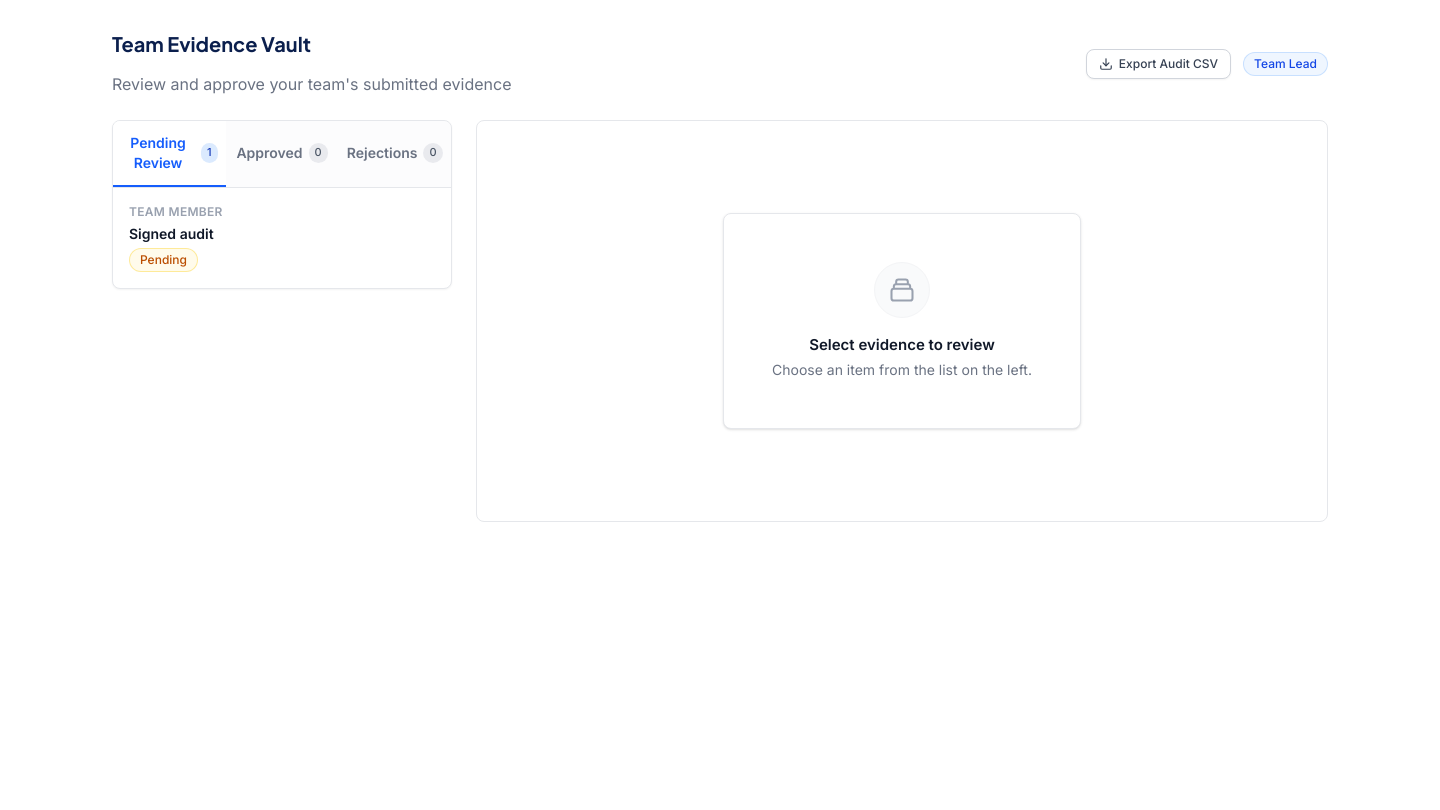
Test case: TL Reviews › approves evidence through the store; list and detail show the same status
Click the text "Signed audit": click(171, 234) [129, 225, 214, 242]
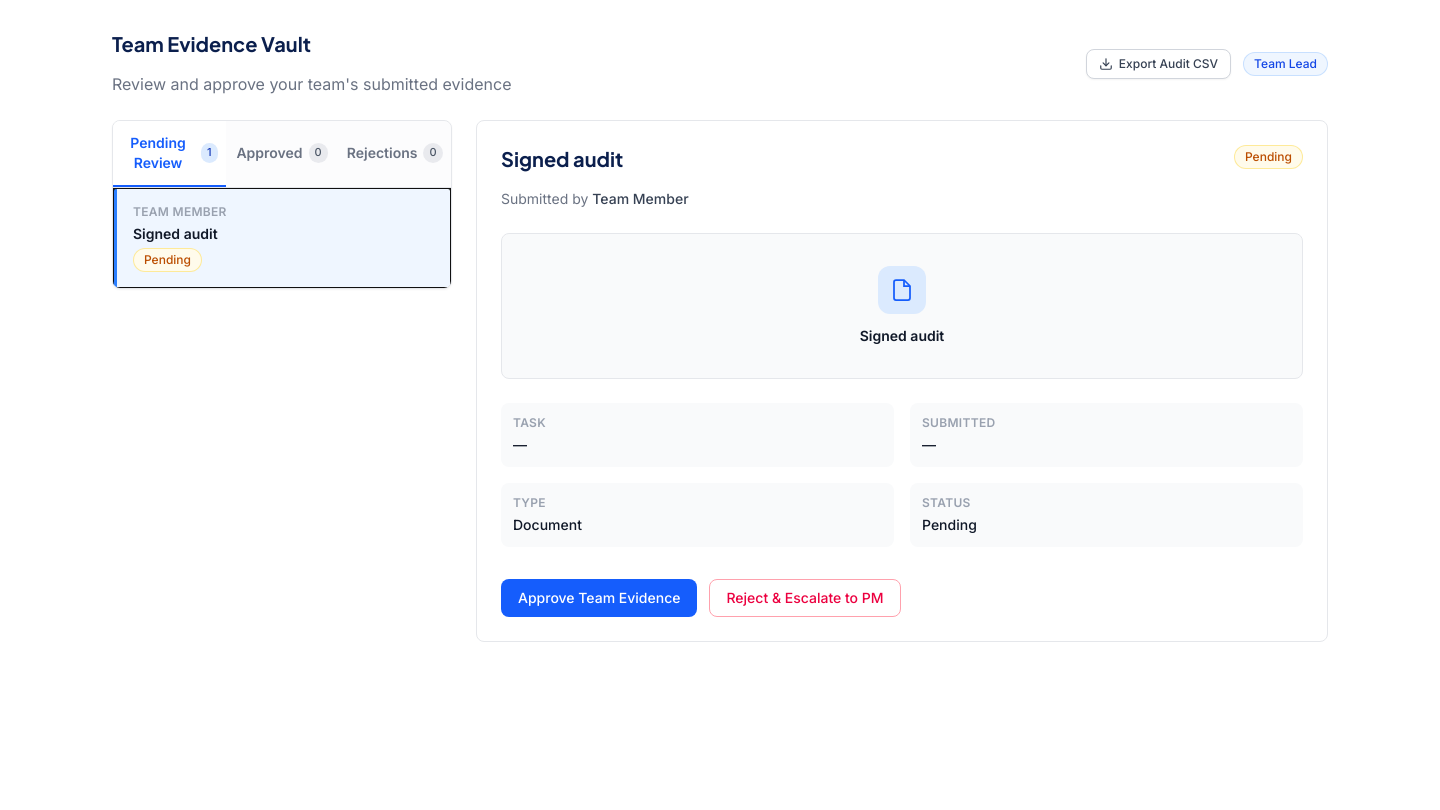
Click the button "Approve Team Evidence": click(599, 598) [501, 579, 698, 617]
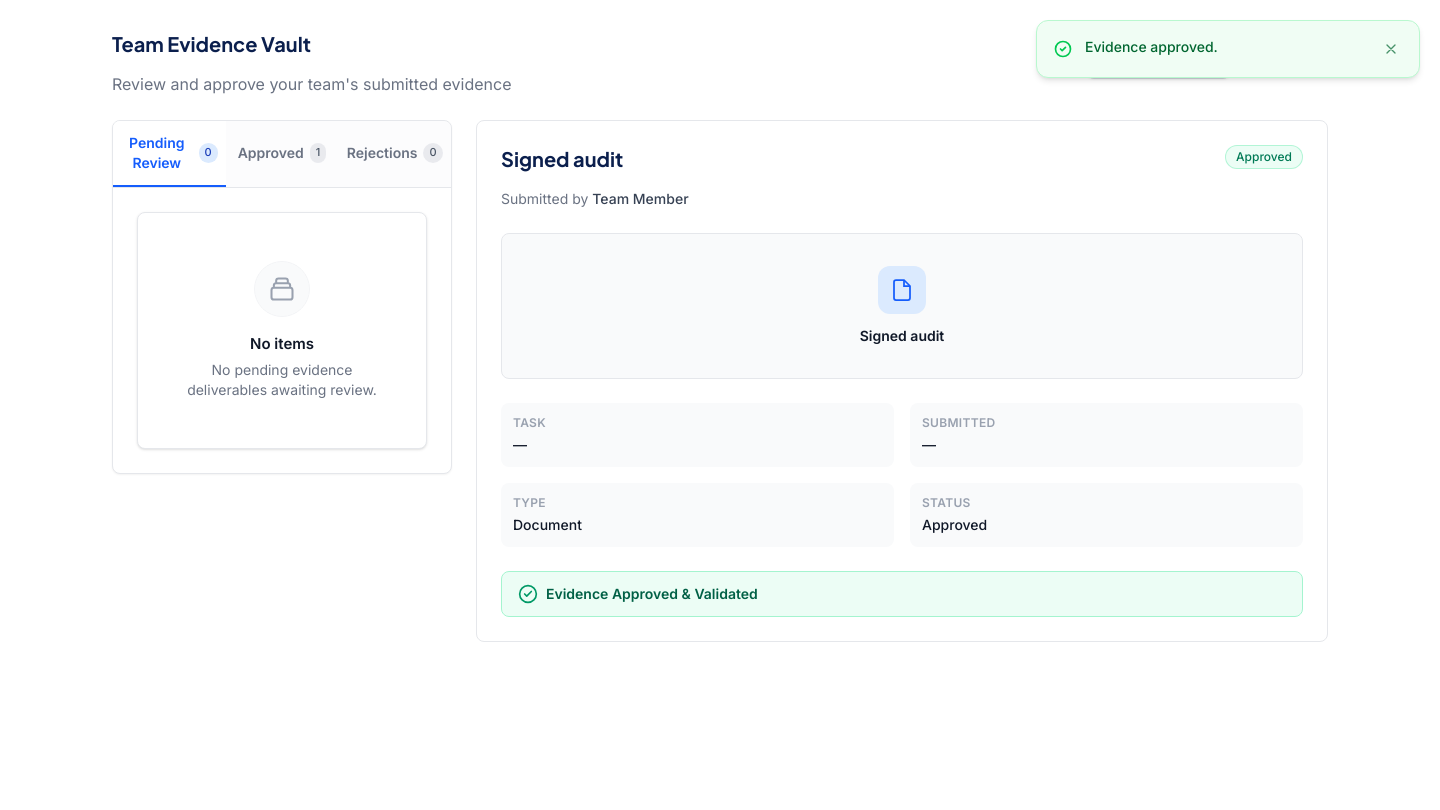
Check: the 1st text "Approved" is shown, box [238, 143, 304, 163]
Check: the text "Evidence Approved & Validated" is shown, box [546, 584, 758, 604]
